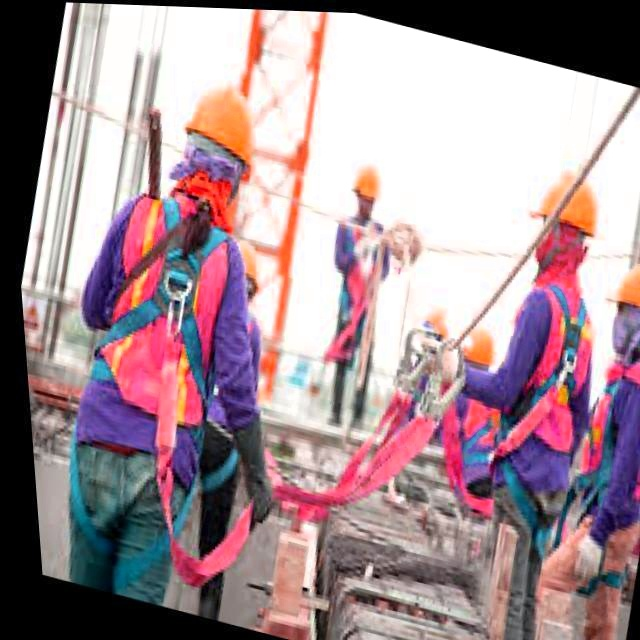safety belt: (111, 198, 225, 427), (519, 293, 601, 449), (338, 230, 393, 332), (593, 355, 639, 453)
